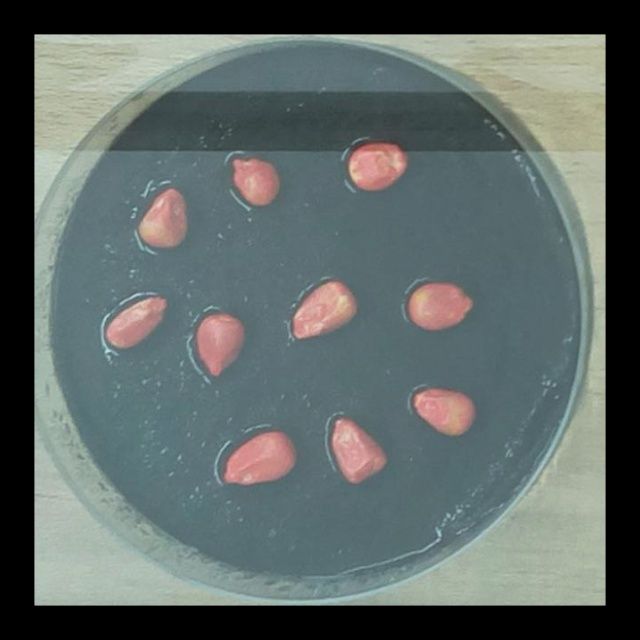Zea mays: (220, 425, 303, 490), (286, 275, 363, 345), (328, 411, 393, 488), (101, 288, 173, 354), (189, 306, 250, 382), (407, 381, 481, 441), (403, 277, 478, 336), (133, 184, 194, 255), (344, 136, 414, 196), (228, 150, 287, 212)
